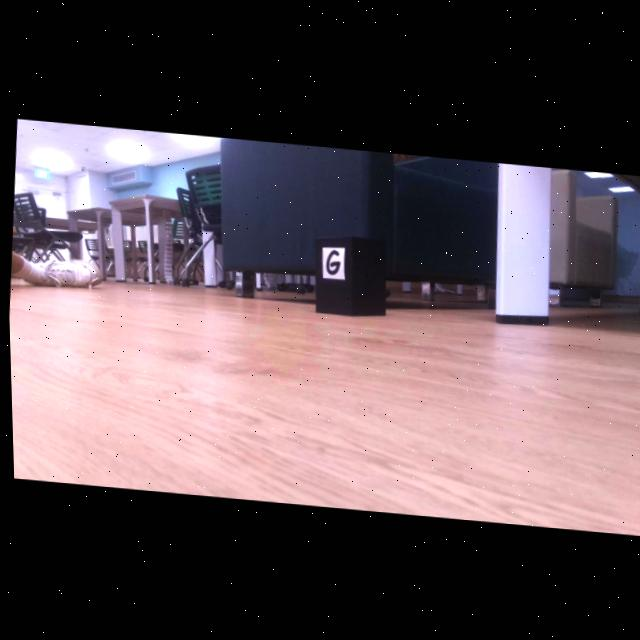G: (324, 248, 338, 273)
